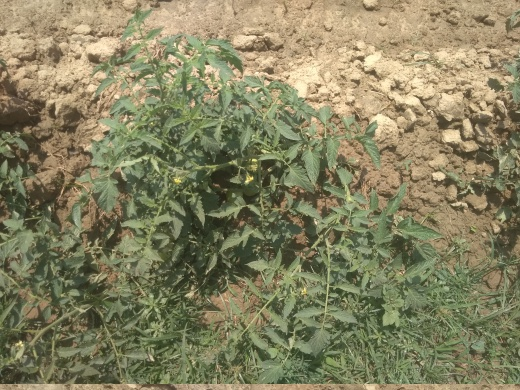tomato plant: (137, 79, 315, 258)
